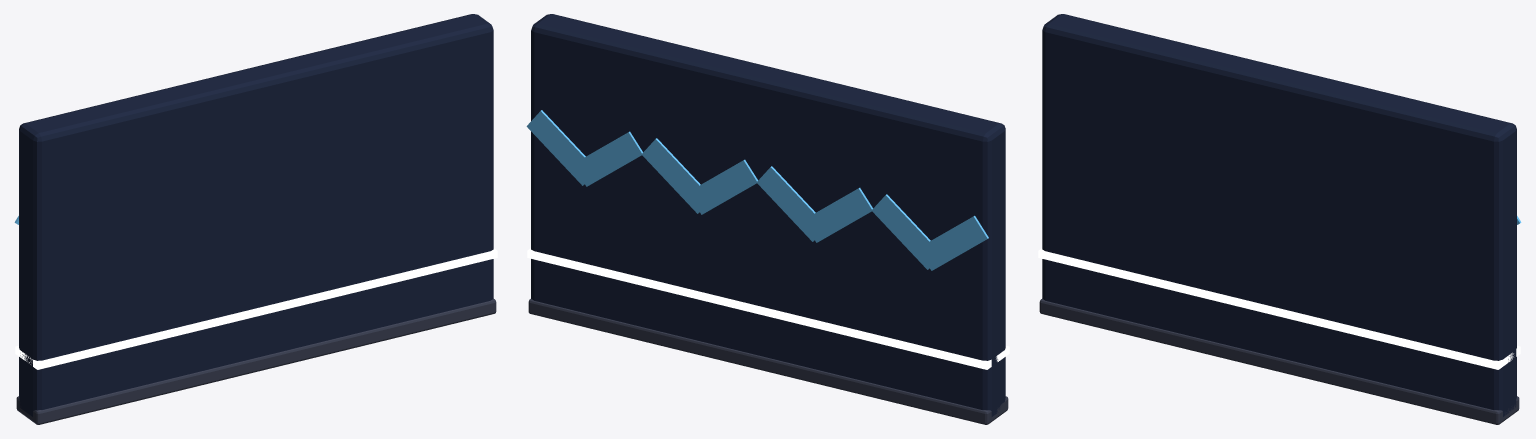
Rendered from mur_bleu.glb.
3 views of the same model, side by side, from view 1: azimuth 30°, elevation 25°; view 2: azimuth 150°, elevation 25°; view 3: azimuth 330°, elevation 25° (orthographic).
Parts seen in each view (by area): view 1: Mur, Plinthe, Bande; view 2: Mur, Plinthe, Bande, Chevron3_1, Chevron1_1, Chevron0_-1, Chevron2_1, Chevron1_-1, Chevron2_-1, Chevron0_1, Chevron3_-1; view 3: Mur, Plinthe, Bande.
Part boxes in pixels (x1=…): Mur: x1=19, y1=14, x2=493, y2=416; Plinthe: x1=16, y1=299, x2=496, y2=424; Bande: x1=15, y1=248, x2=497, y2=369; Mur: x1=531, y1=14, x2=1005, y2=416; Plinthe: x1=528, y1=299, x2=1008, y2=424; Bande: x1=527, y1=248, x2=1009, y2=369; Chevron3_1: x1=526, y1=110, x2=596, y2=185; Chevron1_1: x1=756, y1=166, x2=826, y2=241; Chevron0_-1: x1=917, y1=215, x2=988, y2=270; Chevron2_1: x1=642, y1=138, x2=708, y2=213; Chevron1_-1: x1=803, y1=187, x2=872, y2=242; Chevron2_-1: x1=692, y1=159, x2=757, y2=214; Chevron0_1: x1=872, y1=194, x2=939, y2=269; Chevron3_-1: x1=582, y1=131, x2=642, y2=186; Mur: x1=1042, y1=14, x2=1516, y2=416; Plinthe: x1=1039, y1=299, x2=1519, y2=424; Bande: x1=1038, y1=248, x2=1520, y2=369.
Bounding box in the file's own units: 4.01 × 2.4 × 0.3375.
